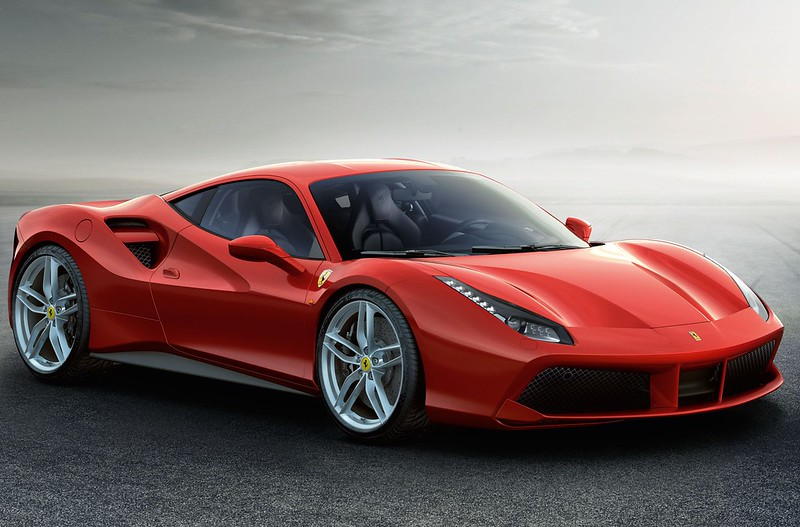car: (2, 150, 788, 457)
